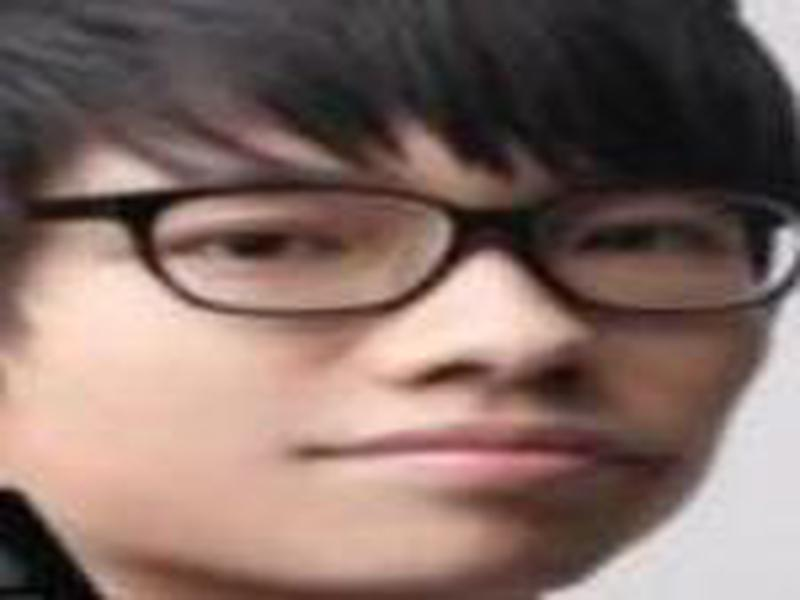without_mask: (10, 110, 783, 600)
